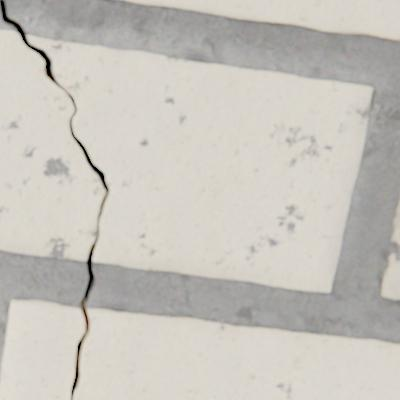brick: (119, 0, 399, 40), (380, 198, 399, 298)
broken_brick: (28, 36, 371, 291), (74, 308, 399, 399), (0, 31, 103, 260), (0, 299, 84, 399)
crack: (0, 0, 110, 399)
